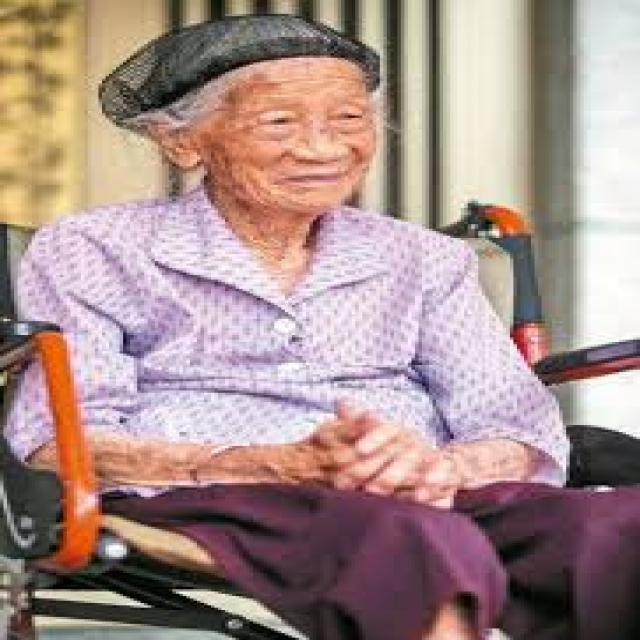wheelchairs: (7, 178, 637, 638)
